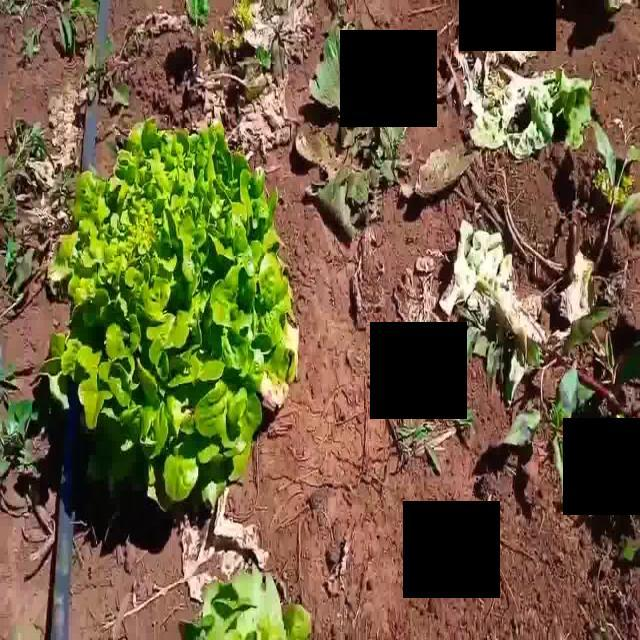Lettuce: (47, 119, 297, 518)
